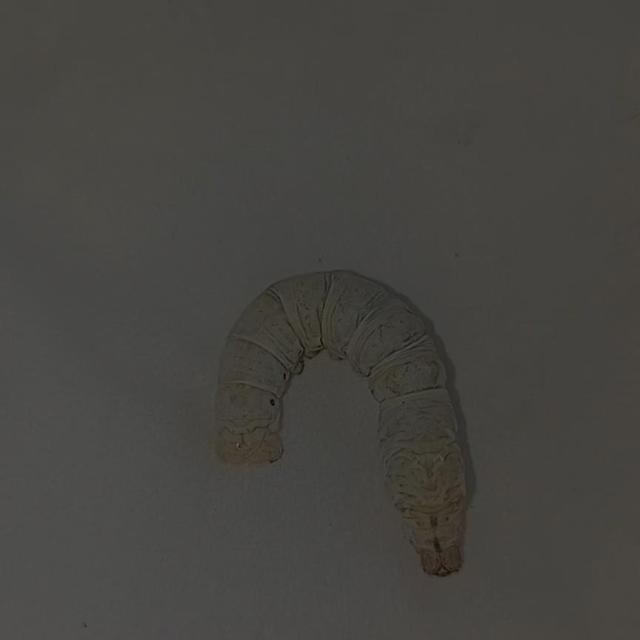Healthy: (206, 262, 477, 584)
